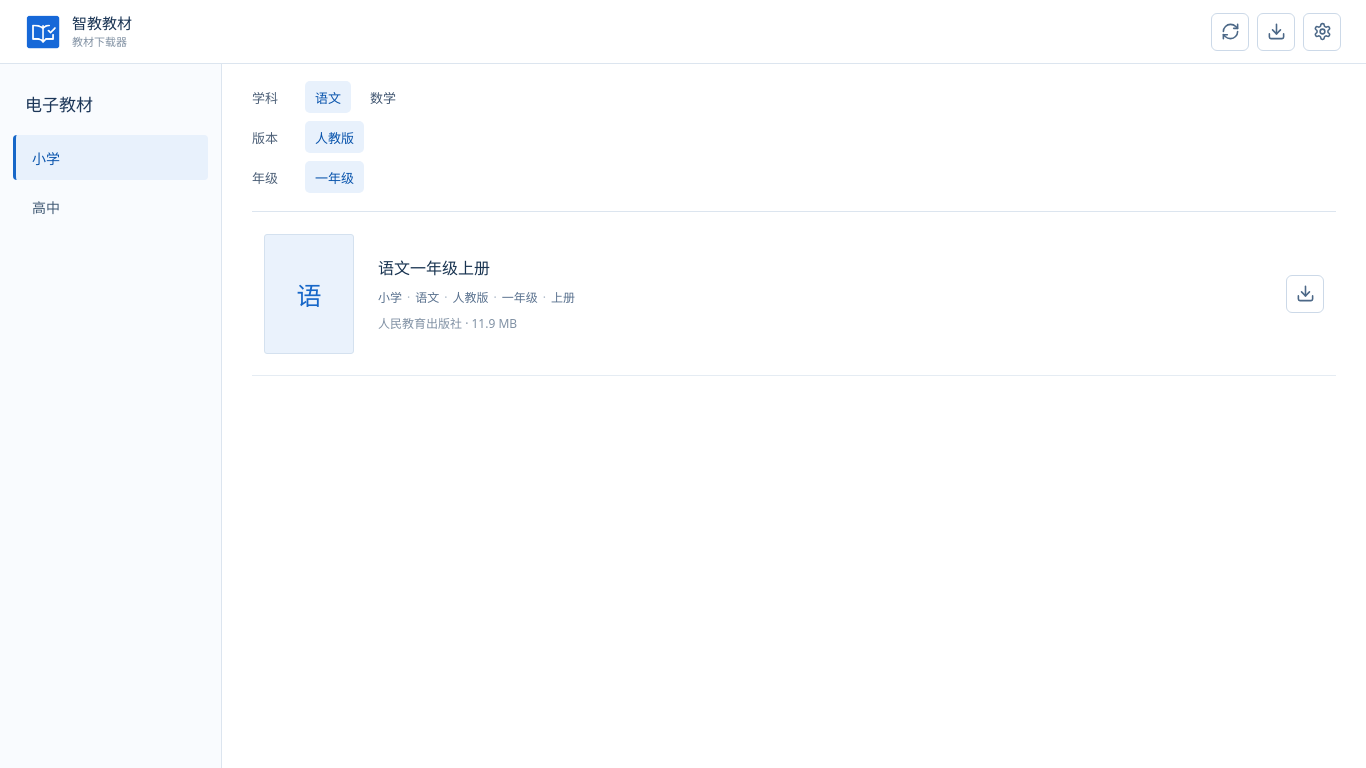
it: CatalogScreen › uses a refreshed snapshot after filters change during synchronization
Click the button named "刷新教材目录".
click(1230, 32)  # box [1211, 12, 1249, 50]
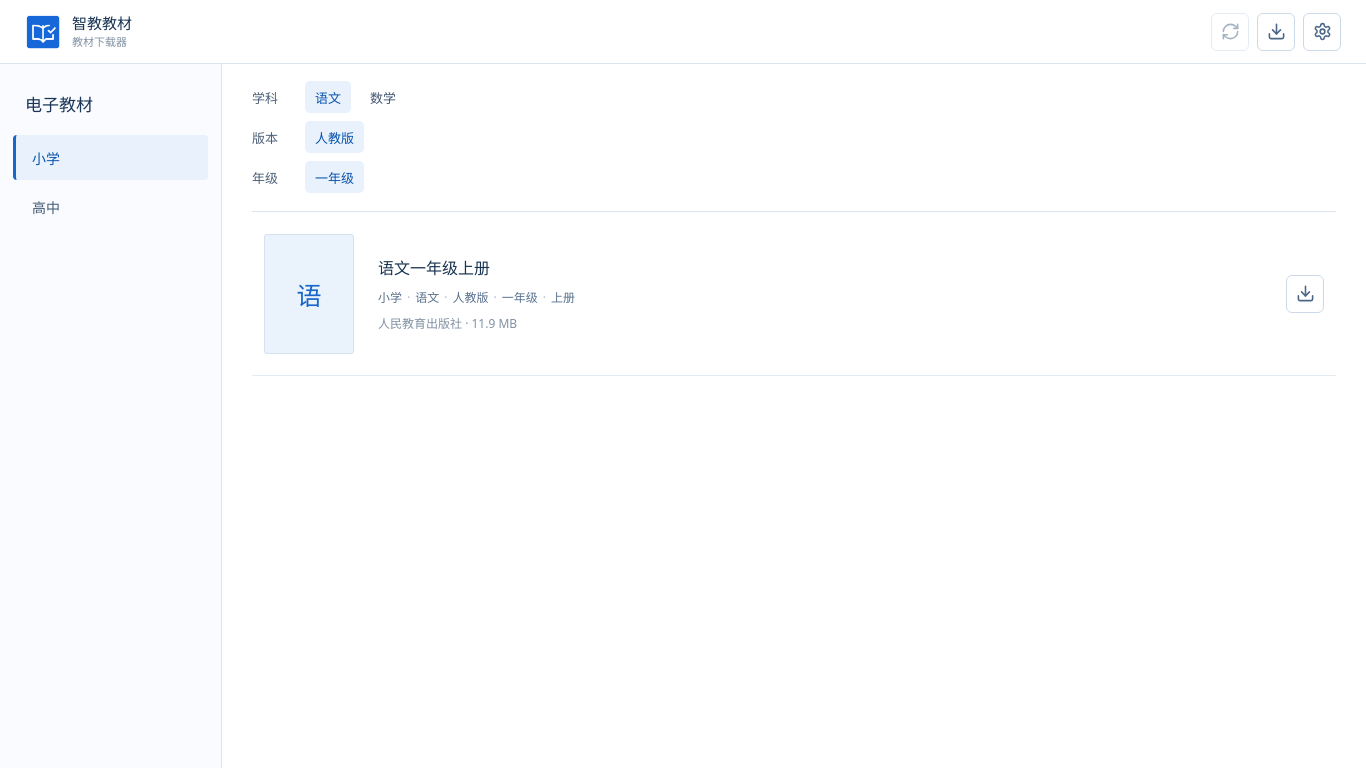
Click the radio button labelled "高中".
click(46, 207)  # box [32, 198, 60, 216]
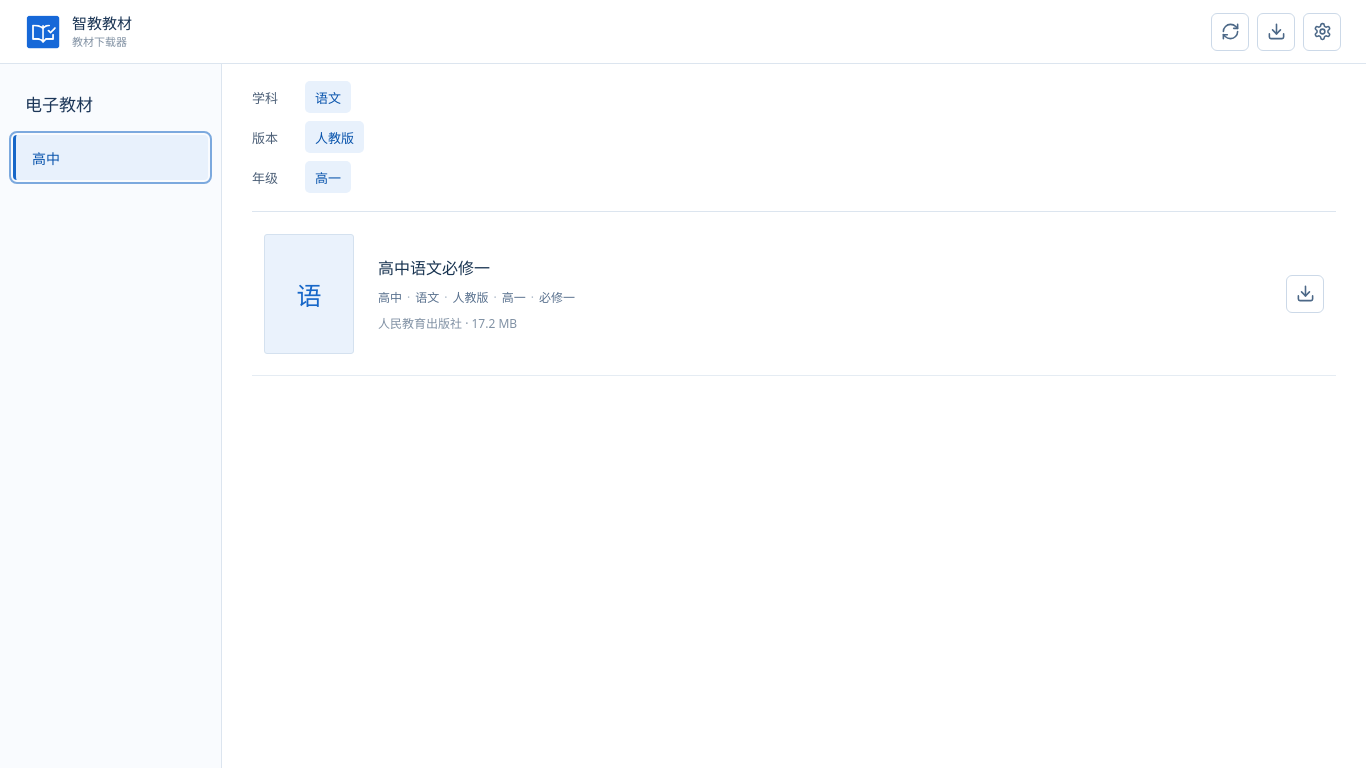
expect the radio button labelled "小学" is gone: met
expect the heading "高中语文必修一" is shown: met, box [378, 256, 490, 278]
